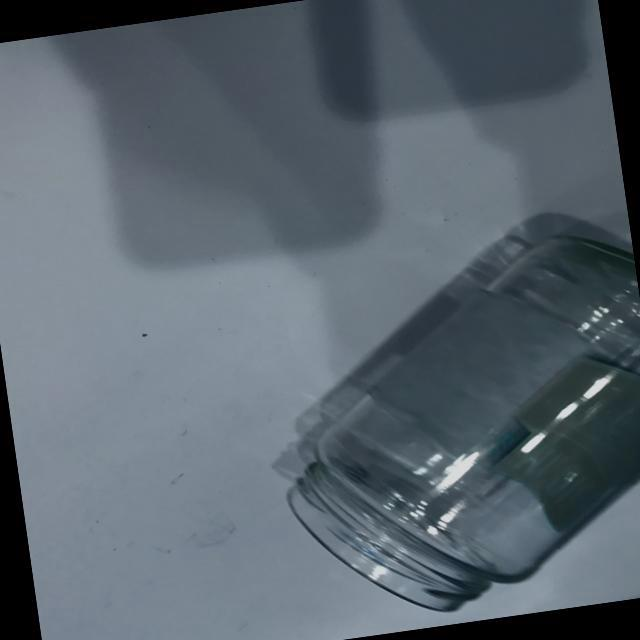glass: (250, 217, 640, 637)
